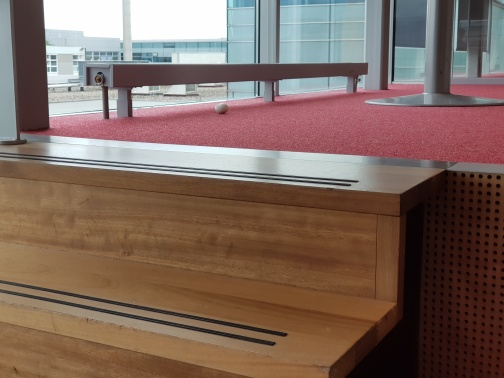egg: (212, 101, 231, 114)
